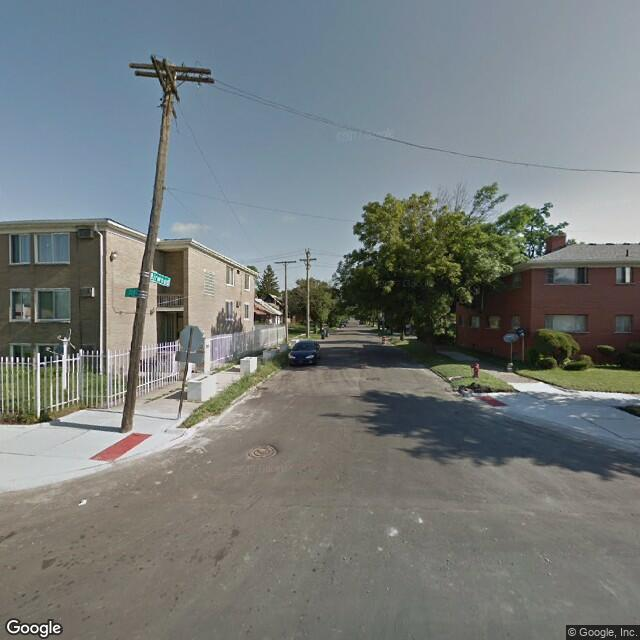litter: (456, 381, 509, 397), (443, 371, 470, 382)
